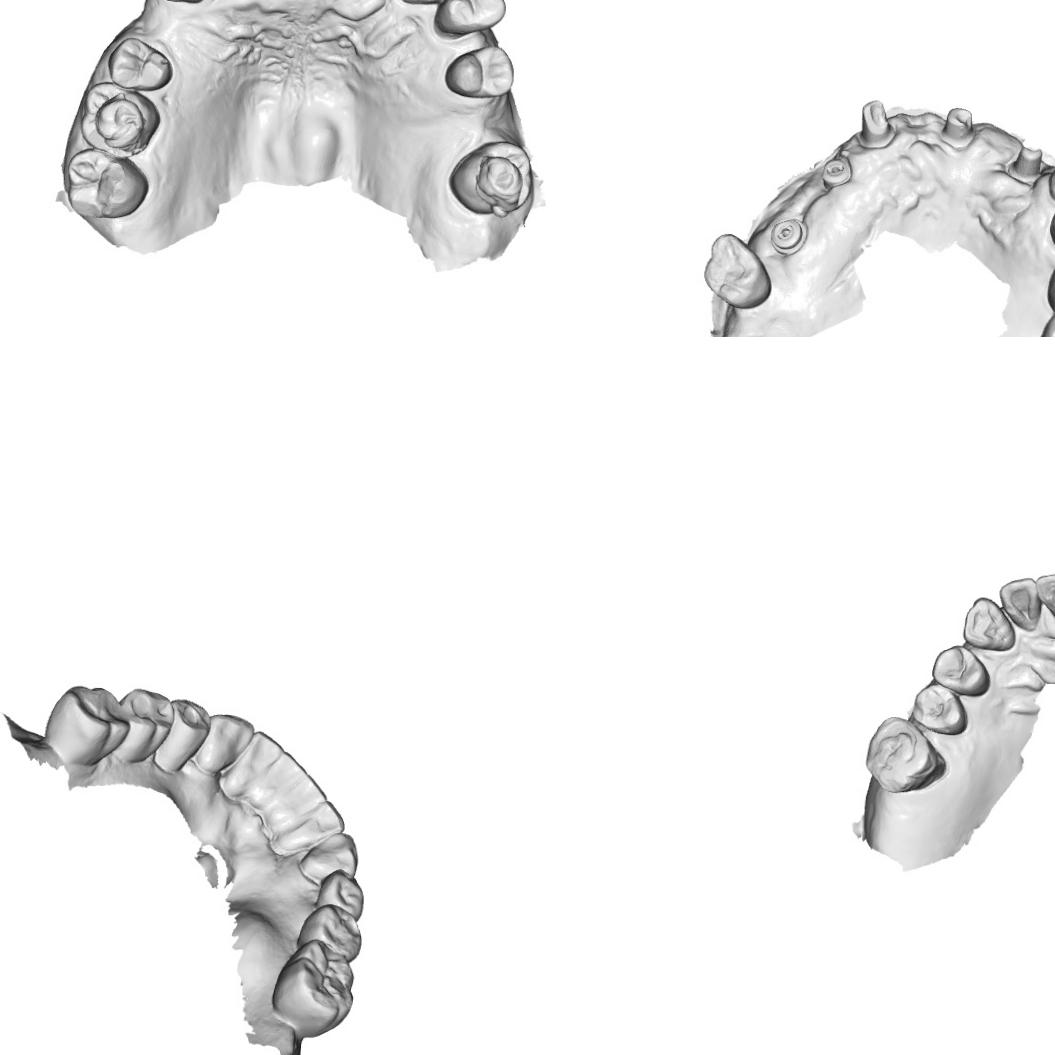abutment: (852, 95, 897, 148), (939, 102, 979, 151), (1014, 134, 1046, 185)
canine: (196, 711, 256, 773), (296, 828, 362, 882), (962, 594, 1017, 654)
implant_minus: (767, 217, 810, 255), (816, 154, 860, 187)
incisor: (995, 575, 1043, 633), (280, 773, 334, 822), (292, 798, 348, 844), (239, 728, 286, 777), (260, 748, 306, 796), (1034, 566, 1055, 632)
molar: (270, 938, 358, 1036), (40, 681, 132, 768), (451, 136, 537, 219), (78, 81, 162, 159), (62, 148, 150, 222), (865, 714, 944, 796), (703, 233, 772, 306)
premolar: (117, 686, 176, 767), (442, 42, 514, 102), (104, 36, 175, 94), (294, 902, 364, 960), (160, 696, 212, 766), (929, 643, 994, 698), (910, 681, 970, 737), (432, 0, 506, 38), (314, 869, 365, 923)
